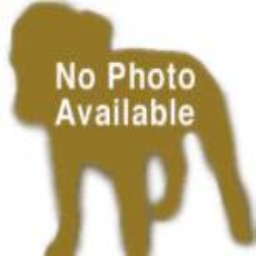dog: (2, 5, 249, 249)
